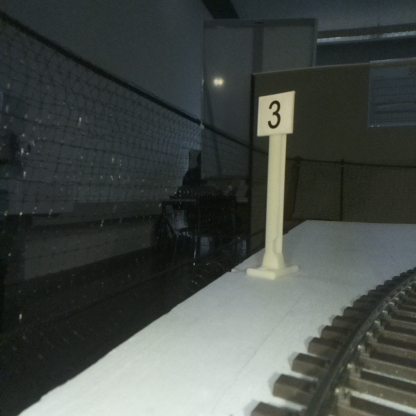white-info-3: (258, 92, 293, 275)
